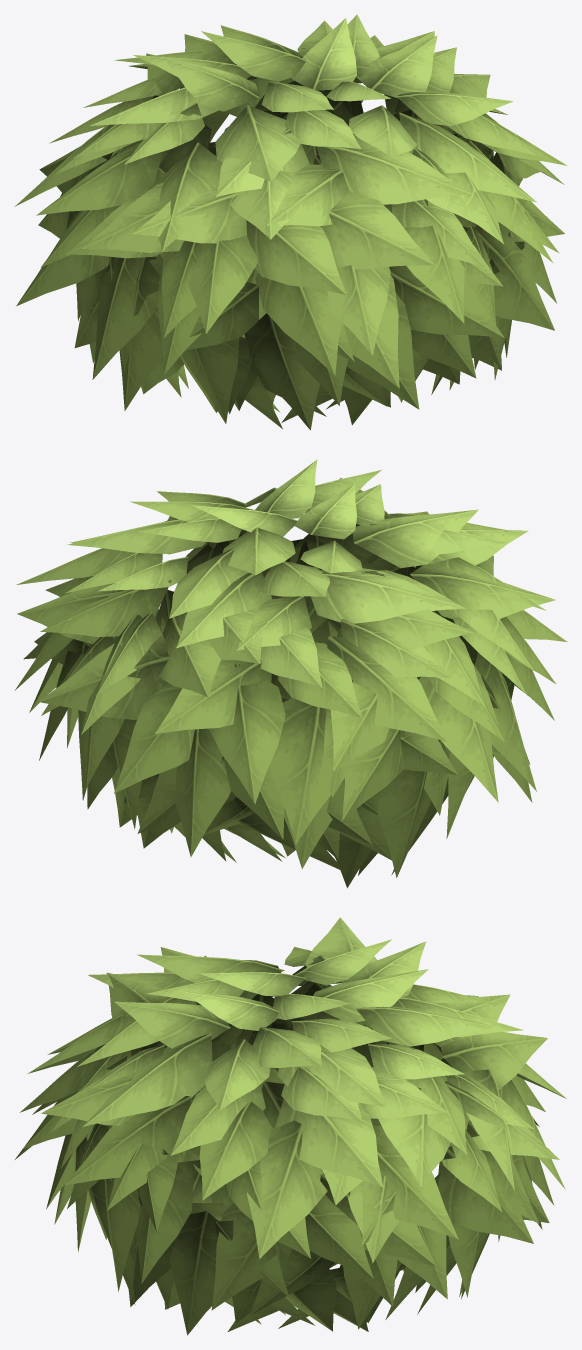
3 views of the same model, one above another, from view 1: azimuth 30°, elevation 25°; view 2: azimuth 150°, elevation 25°; view 3: azimuth 270°, elevation 25° (orthographic).
Visible parts, largest first — view 1: grid_4_leaves_LOD0; view 2: grid_4_leaves_LOD0; view 3: grid_4_leaves_LOD0.
Part boxes in pixels (x1,y1,x2,y2): grid_4_leaves_LOD0: (14,14,567,430); grid_4_leaves_LOD0: (15,460,567,888); grid_4_leaves_LOD0: (15,917,566,1335).
Size of what is drawn, in the model's own units: 1.45 by 0.9835 by 1.43.
Materials: 1 (1 with a texture image).
